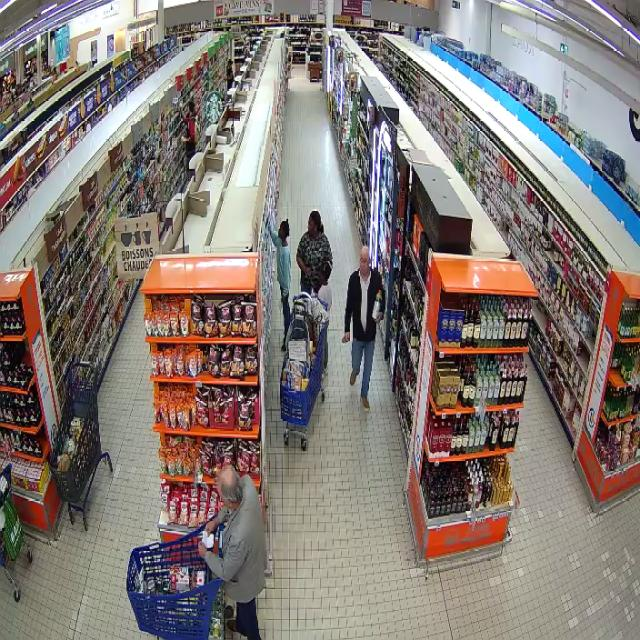article: (372, 291, 382, 318), (341, 337, 350, 345)
hands: (205, 514, 220, 537), (198, 541, 208, 555), (302, 266, 312, 276), (374, 311, 383, 322), (345, 330, 350, 339)
person: (198, 467, 265, 639), (343, 246, 385, 410), (297, 211, 332, 293), (269, 219, 289, 350), (315, 262, 332, 313), (323, 331, 327, 374)
